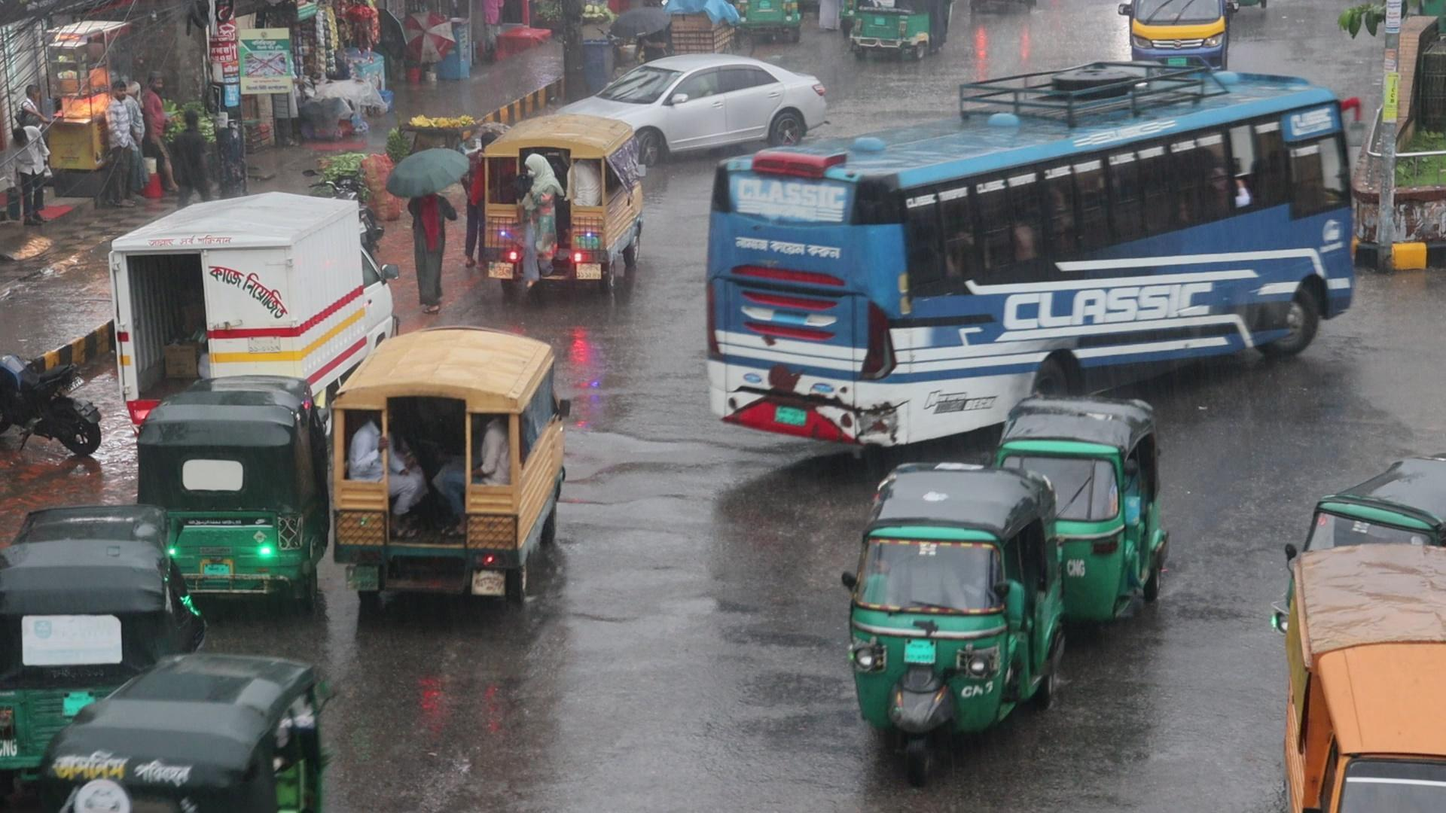Bus: (691, 51, 1365, 377)
Car: (635, 50, 839, 148)
Truck: (327, 316, 574, 624), (476, 107, 650, 291)
